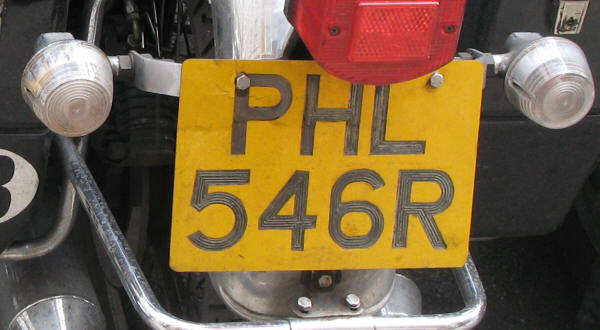license_plate: (169, 60, 485, 274)
